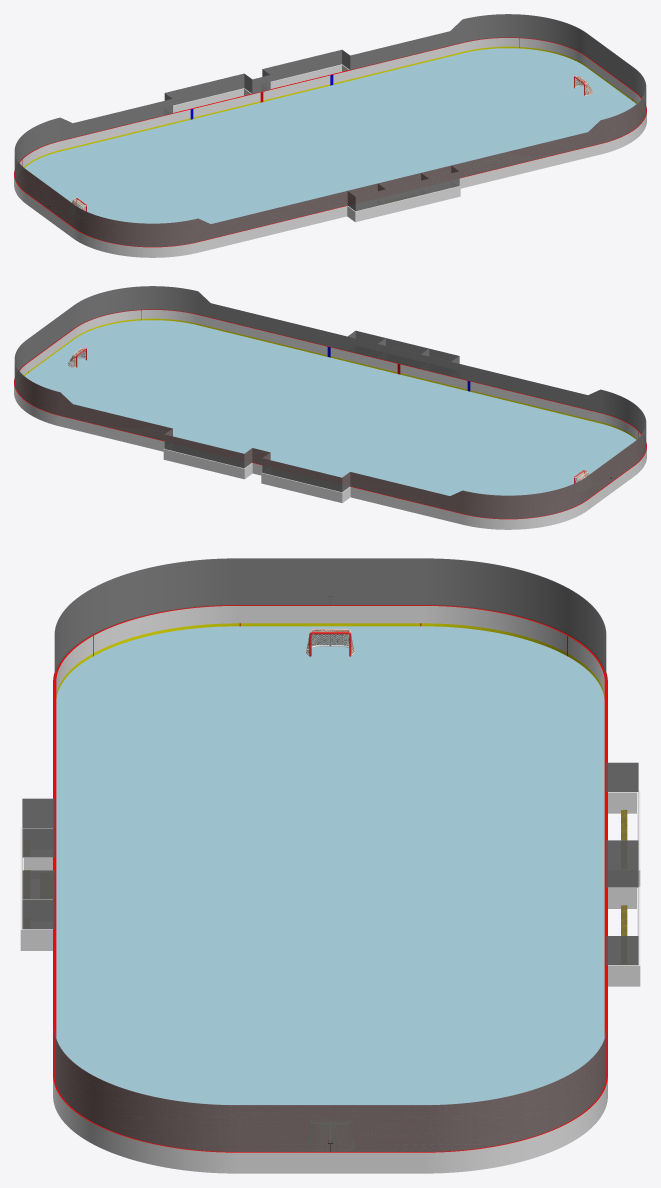
Rendered from hockeyrink.fbx.
3 views of the same model, one above another, from view 1: azimuth 30°, elevation 25°; view 2: azimuth 150°, elevation 25°; view 3: azimuth 270°, elevation 25° (orthographic). The views are drawn at different scales.
Visible parts, largest first — view 1: ID352, group_13, group_5, ID586, ID562, ID550, group_6, group_4, ID568, ID592, ID604, ID748 (+2 smaller); view 2: ID352, group_13, group_5, ID574, ID580, ID550, ID568, group_4, ID754, ID748, ID616, ID628 (+1 smaller); view 3: ID352, group_13, group_5, ID556, ID550, group_4, ID748, group_6, ID754.
Part boxes in pixels (x1,y1,x2,y2): ID352: (25, 48, 636, 223); group_13: (14, 14, 646, 246); group_5: (14, 113, 646, 255); ID586: (333, 38, 519, 83); ID562: (22, 109, 190, 166); ID550: (14, 37, 646, 247); group_6: (347, 186, 460, 222); group_4: (14, 121, 646, 257); ID568: (520, 38, 640, 103); ID592: (193, 92, 260, 117); ID604: (263, 75, 330, 100); ID748: (270, 64, 349, 88); ID352: (24, 320, 635, 495); group_13: (14, 286, 646, 518); group_5: (14, 385, 646, 527); ID574: (141, 310, 327, 355); ID580: (470, 381, 638, 438); ID550: (14, 309, 646, 519); ID568: (20, 310, 140, 375); group_4: (14, 393, 646, 529); ID754: (261, 473, 350, 503); ID748: (163, 448, 252, 479); ID616: (330, 347, 397, 372); ID628: (400, 364, 467, 389); ID352: (56, 626, 604, 1104); group_13: (22, 558, 638, 1151); group_5: (53, 1078, 607, 1170); ID556: (93, 606, 567, 652); ID550: (53, 605, 607, 1152); group_4: (53, 1095, 607, 1173); ID748: (608, 886, 640, 986); group_6: (20, 827, 52, 950); ID754: (608, 791, 640, 886).
Size of the model in its own units: 2412 by 1152 by 139.
16 materials, 3 textured.
